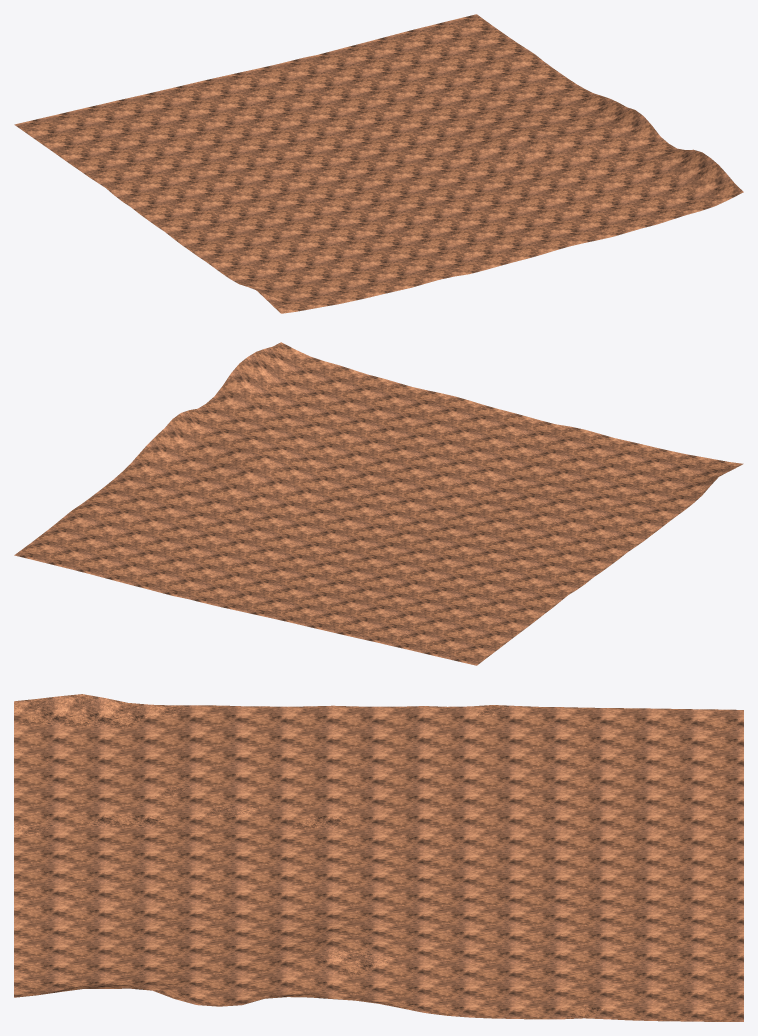
Rendered from terrain_08_01.dae.
3 renders of one model, top to bottom at view 1: azimuth 30°, elevation 25°; view 2: azimuth 150°, elevation 25°; view 3: azimuth 270°, elevation 25°, orthographic. The views are drawn at different scales.
Parts seen in each view (by area): view 1: terrain_08_01-node; view 2: terrain_08_01-node; view 3: terrain_08_01-node.
Part boxes in pixels (x1,y1,x2,y2): terrain_08_01-node: (14, 14, 743, 313); terrain_08_01-node: (14, 342, 743, 665); terrain_08_01-node: (14, 694, 743, 1021).
Bounding box in the file's own units: 128 × 128 × 7.71.
1 material, 1 textured.
